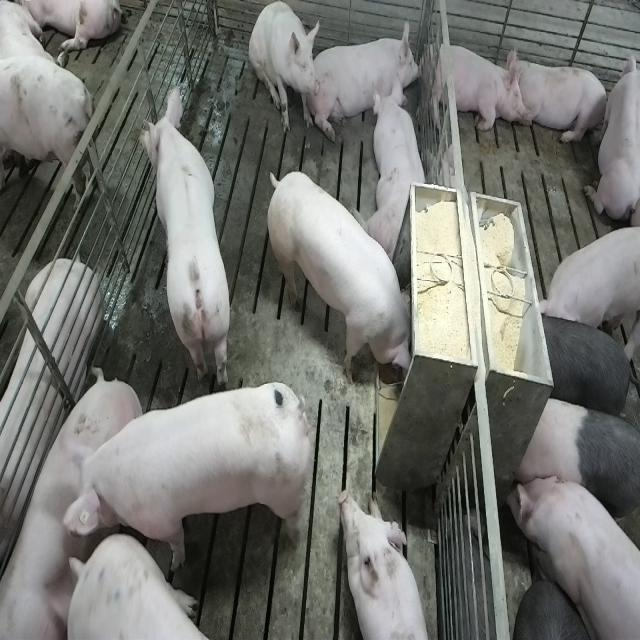Feeding: (272, 168, 422, 392)
Lateral_lying: (0, 256, 103, 622)
Sitting: (249, 2, 320, 137)
Standing: (64, 377, 314, 571), (138, 81, 232, 384), (504, 469, 638, 640), (512, 398, 638, 564), (63, 531, 241, 639), (0, 59, 101, 222), (532, 225, 636, 339), (533, 308, 637, 419)
Sternal_lying: (340, 490, 434, 640), (312, 21, 426, 136), (368, 80, 430, 264), (425, 37, 524, 135), (584, 42, 637, 225), (511, 52, 609, 148)
